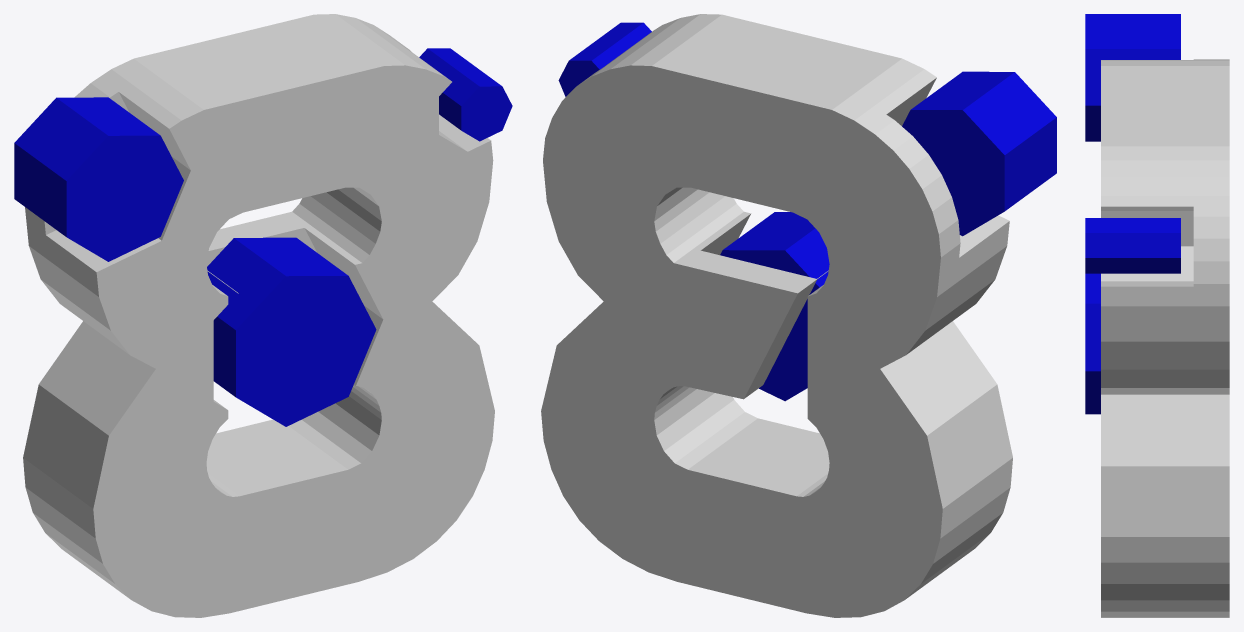
Rendered from Ch_Lite_8_01.fbx.
3 renders of one model, left to right at view 1: azimuth 30°, elevation 25°; view 2: azimuth 150°, elevation 25°; view 3: azimuth 270°, elevation 25°, orthographic. The views are drawn at different scales.
Parts seen in each view (by area): view 1: sphere1; view 2: sphere1; view 3: sphere1.
Boxes of the visible parts, x1,y1,x2,y2 form: sphere1: (14, 14, 512, 617); sphere1: (541, 14, 1056, 617); sphere1: (1085, 14, 1229, 617).
Bounding box in the file's own units: 0.7329 × 0.809 × 0.2242.
